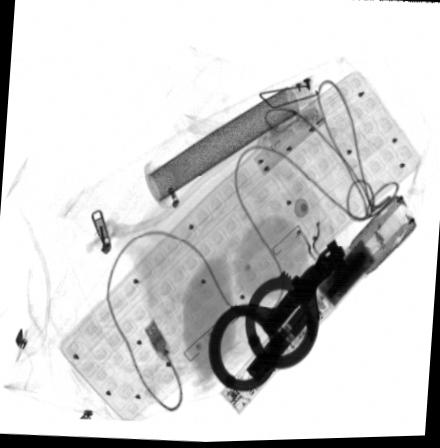Baton: (218, 197, 417, 419)
HandCuffs: (207, 240, 348, 394)
